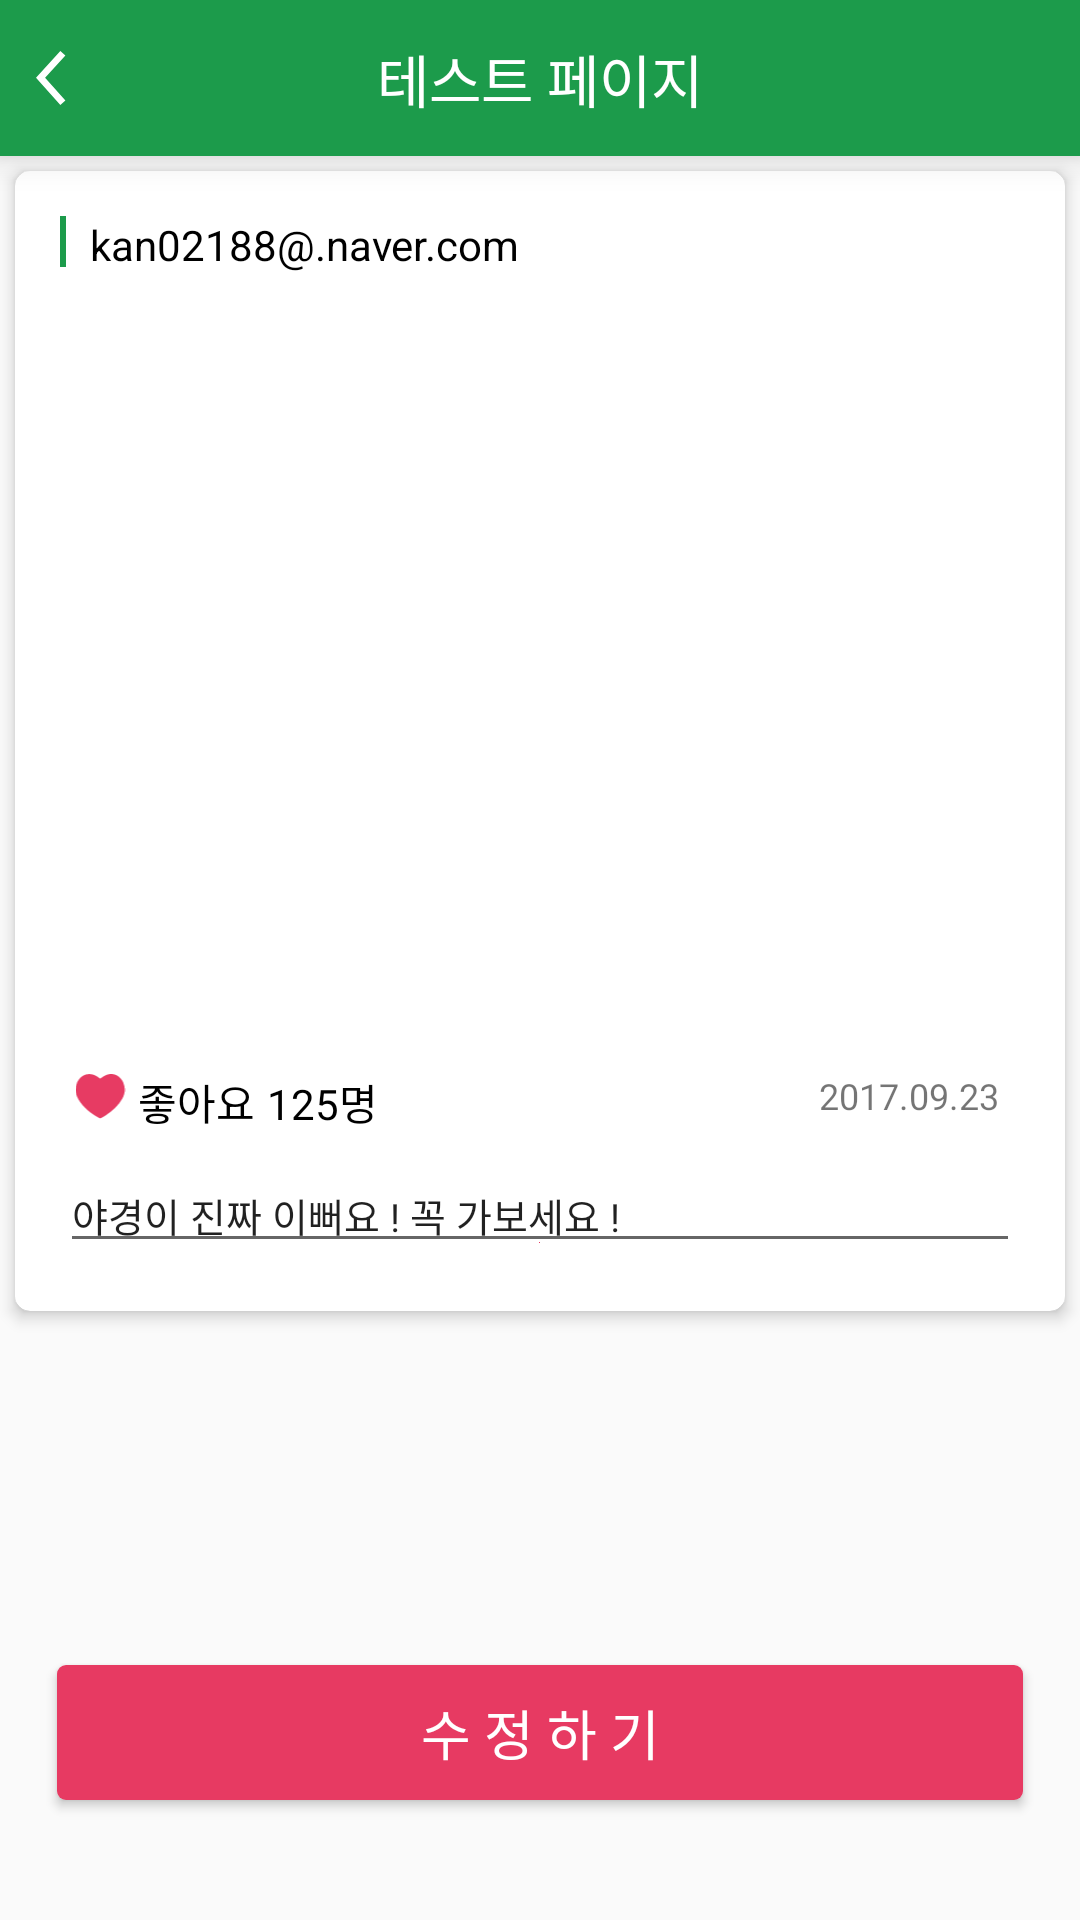

Where to tap for icons on this 1080x1920 app screen, as point (x, y):
back: point (51, 78)
love: point (101, 1096)
